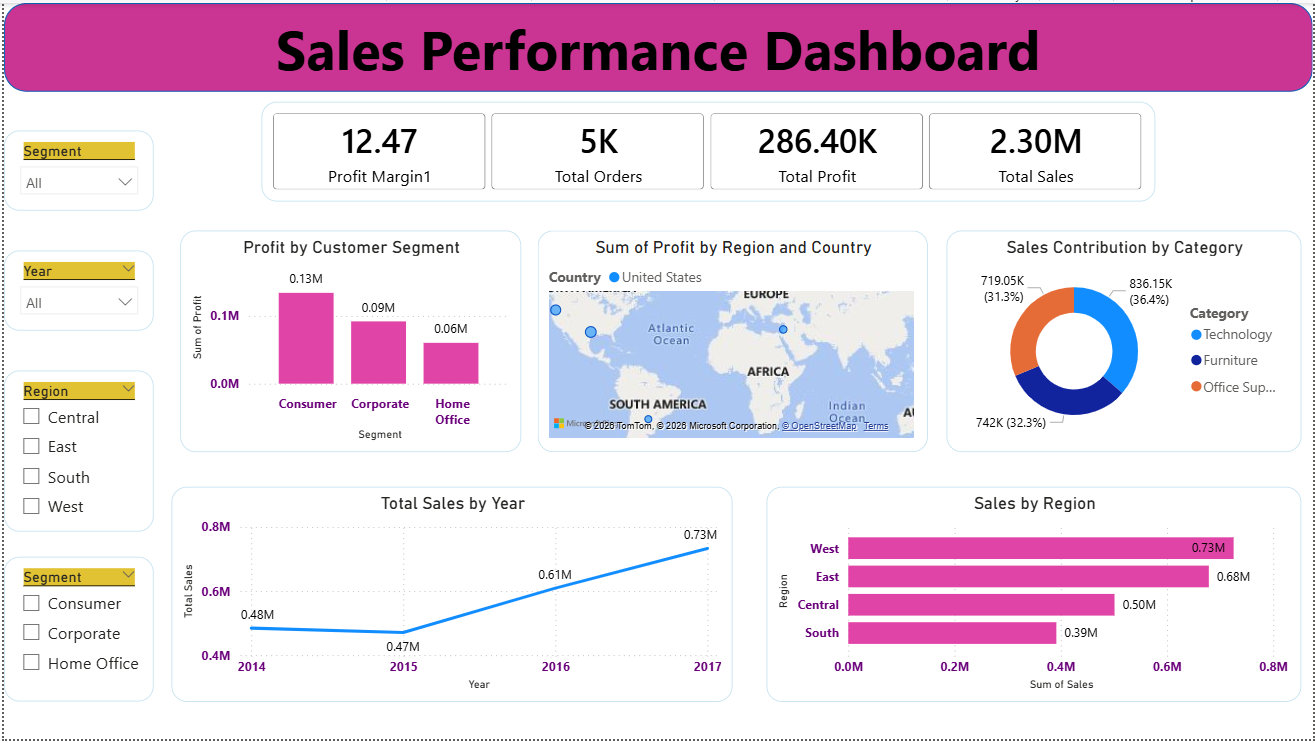

The dashboard page shown, as its layout file describes it:
{"tool":"powerbi","page":{"name":"Page 1","canvas":[1280,720],"ordinal":0},"visuals":[{"type":"cardVisual","fields":{"Data":["Sample Superstore.Profit Margin1","Sample Superstore.Total Orders","Sample Superstore.Total Profit","Sample Superstore.Total Sales"]},"box":[251.9,96.6,874.3,97.8],"z":0},{"type":"clusteredBarChart","title":"Sales by Region","fields":{"Category":["Sample Superstore.Region"],"Y":["Sum(Sample Superstore.Sales)"]},"box":[745.9,473.2,523.4,210.3],"z":1000},{"type":"lineChart","fields":{"Y":["Sample Superstore.Total Sales"],"Category":["Sample Superstore.Year"]},"box":[163.9,473.2,549.1,210.3],"z":2000},{"type":"donutChart","title":"Sales Contribution by Category","fields":{"Category":["Sample Superstore.Category"],"Y":["Sum(Sample Superstore.Sales)"]},"box":[922,222.6,347.3,216.4],"z":3000},{"type":"shape","box":[0,0,1280.3,86.8],"z":4000},{"type":"slicer","fields":{"Values":["Sample Superstore.Region"]},"box":[0,359.5,146.7,157.7],"z":5000},{"type":"slicer","fields":{"Values":["Sample Superstore.Year"]},"box":[0,242.1,146.7,78.3],"z":6000},{"type":"slicer","fields":{"Values":["Sample Superstore.Segment"]},"box":[0,124.7,146.7,78.3],"z":7000},{"type":"clusteredColumnChart","title":"Profit by Customer Segment","fields":{"Y":["Sum(Sample Superstore.Profit)"],"Category":["Sample Superstore.Segment"]},"box":[172.4,222.6,333.8,216.4],"z":8000},{"type":"slicer","fields":{"Values":["Sample Superstore.Segment"]},"box":[0,541.7,146.7,141.8],"z":9000},{"type":"map","fields":{"Category":["Sample Superstore.Region"],"Series":["Sample Superstore.Country"],"Size":["Sum(Sample Superstore.Profit)"]},"box":[522.1,222.6,381.5,216.4],"z":9001}]}

Visuals, with their boxes in screenshot pixels (x1, y1, x2, y2), scaled from the page's 1280x720 canvas onto the 1315x743 screenshot:
cardVisual - Sample Superstore.Profit Margin1 x Sample Superstore.Total Orders: bbox(259, 100, 1157, 201)
"Sales by Region" clusteredBarChart: bbox(766, 488, 1304, 705)
lineChart - Sample Superstore.Total Sales x Sample Superstore.Year: bbox(168, 488, 732, 705)
"Sales Contribution by Category" donutChart: bbox(947, 230, 1304, 453)
shape: bbox(0, 0, 1314, 90)
slicer - Sample Superstore.Region: bbox(0, 371, 151, 534)
slicer - Sample Superstore.Year: bbox(0, 250, 151, 331)
slicer - Sample Superstore.Segment: bbox(0, 129, 151, 209)
"Profit by Customer Segment" clusteredColumnChart: bbox(177, 230, 520, 453)
slicer - Sample Superstore.Segment: bbox(0, 559, 151, 705)
map - Sample Superstore.Region x Sample Superstore.Country: bbox(536, 230, 928, 453)
